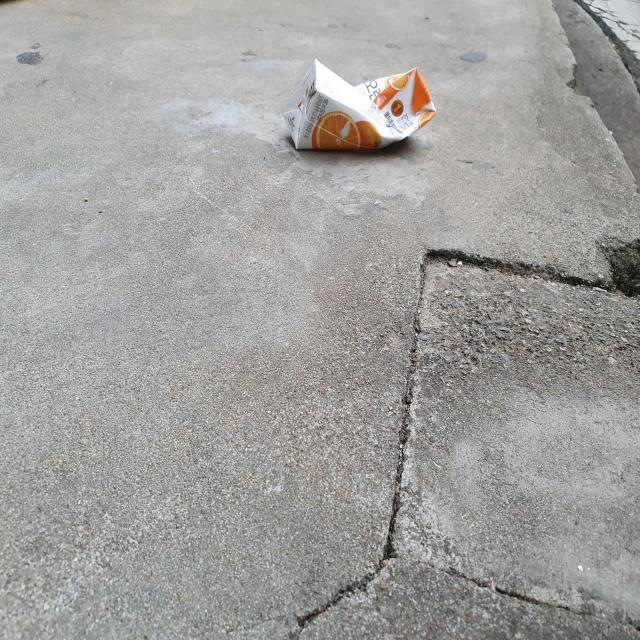paperpack: (284, 58, 436, 149)
